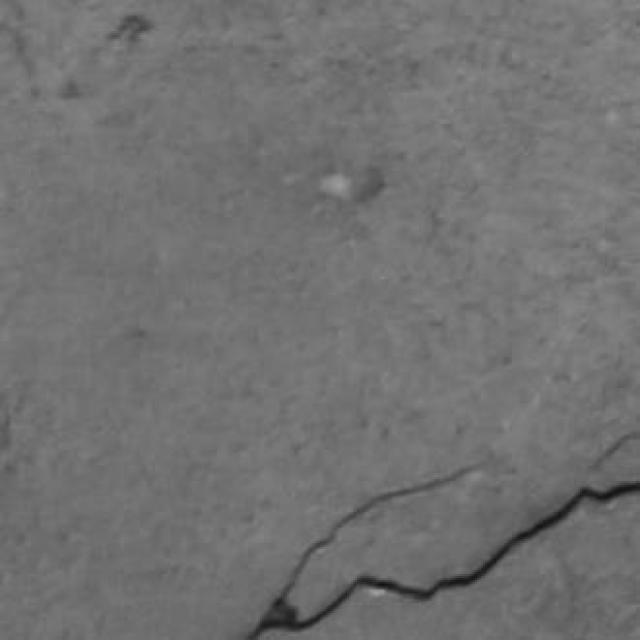crack: (247, 464, 639, 639)
